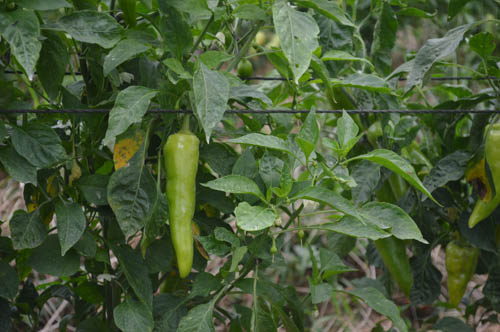ChiliPepper: (165, 135, 200, 283), (369, 185, 412, 294), (469, 125, 500, 224), (444, 244, 476, 304)
